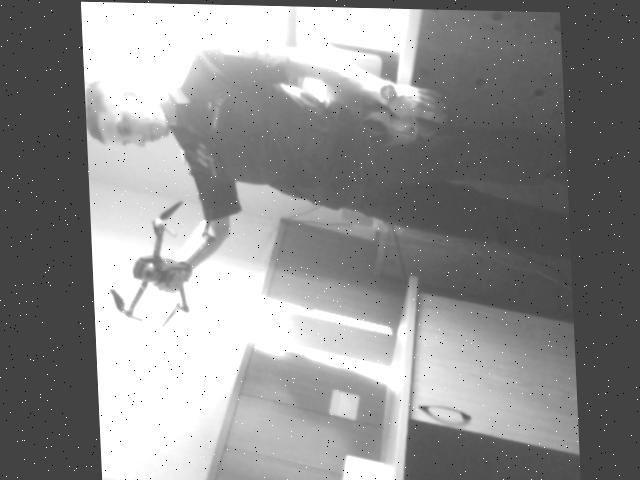drone: (99, 200, 233, 328)
